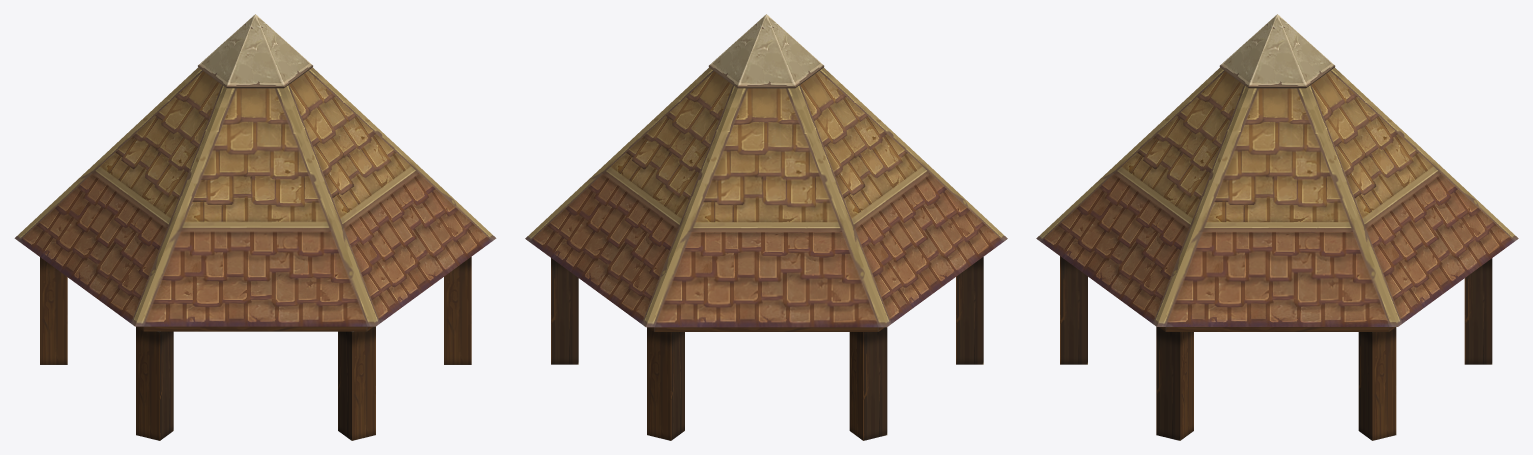
File: scenes_beach_piramid01.FBX
3 renders of one model, left to right at view 1: azimuth 30°, elevation 25°; view 2: azimuth 150°, elevation 25°; view 3: azimuth 270°, elevation 25°, orthographic.
Parts seen in each view (by area): view 1: scenes_beach_piramid01; view 2: scenes_beach_piramid01; view 3: scenes_beach_piramid01.
Boxes of the visible parts, x1,y1,x2,y2 form: scenes_beach_piramid01: [14, 14, 496, 440]; scenes_beach_piramid01: [525, 14, 1007, 440]; scenes_beach_piramid01: [1036, 14, 1518, 440].
Size of the model in its own units: 798 by 727 by 921.
